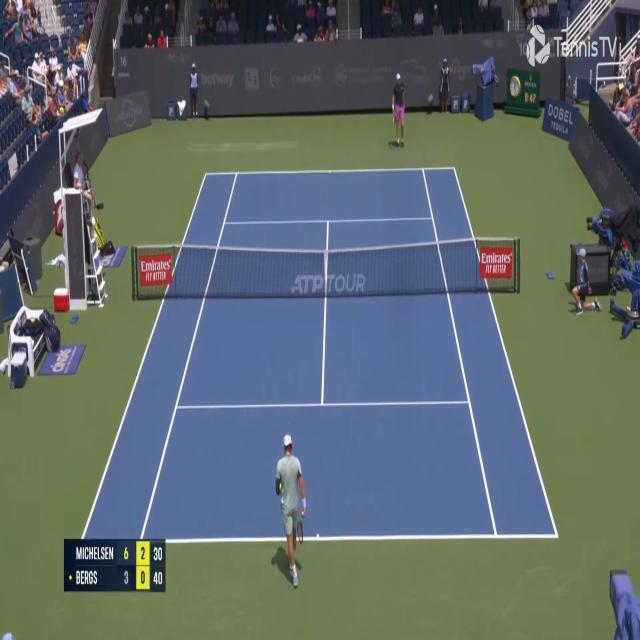tennis-player: (272, 430, 309, 592), (391, 73, 406, 148)
